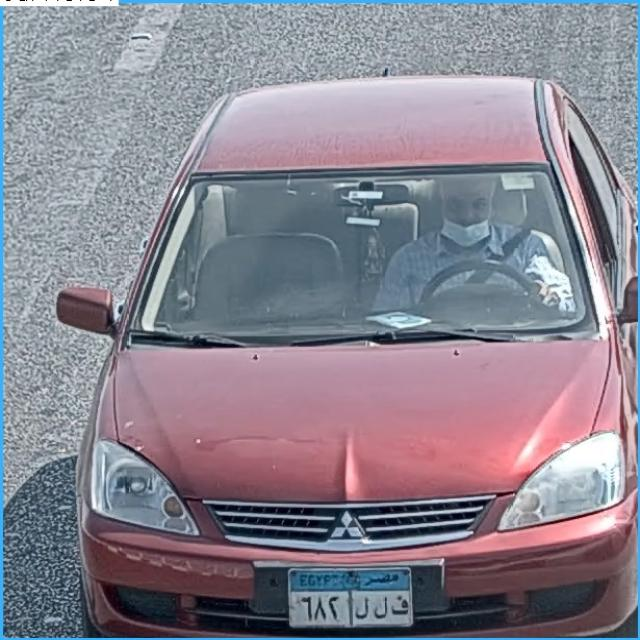windshield: (125, 176, 588, 334)
